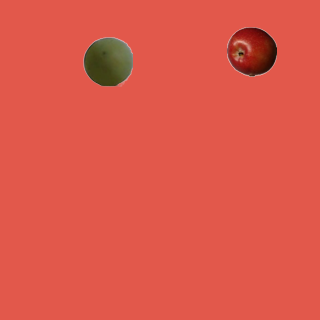Apple Braeburn: (226, 26, 276, 76)
Grape White 4: (82, 36, 132, 86)
